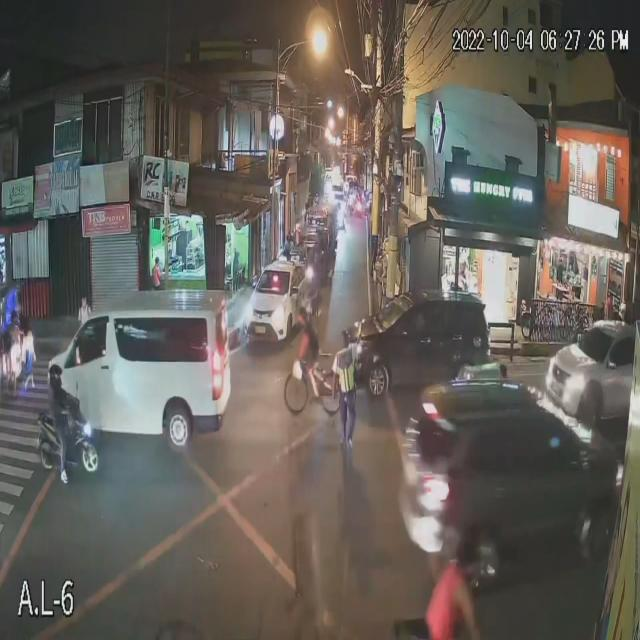Full-Faced: (48, 358, 63, 386)
